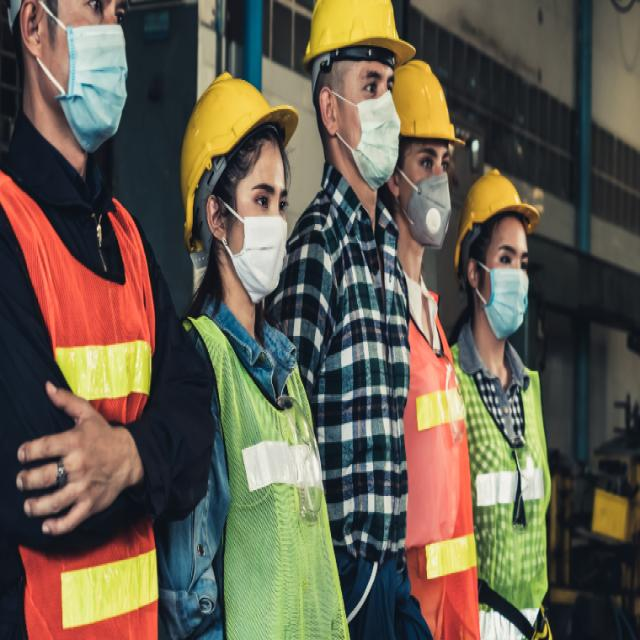helmet: (178, 66, 302, 250), (454, 166, 541, 266), (300, 1, 418, 70), (392, 58, 470, 148)
vest: (1, 184, 160, 640), (180, 298, 356, 640), (390, 280, 484, 640), (446, 326, 552, 611)
